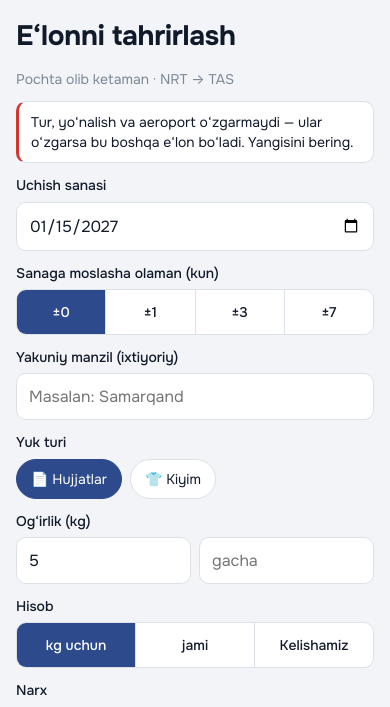
Scenario: EditPostPage › "Kelishamiz" tanlansa narx maydoni yo‘qoladi va summa yuborilmaydi
Click the radio button labelled "Kelishamiz".
click(314, 645)  # box [254,623,373,667]
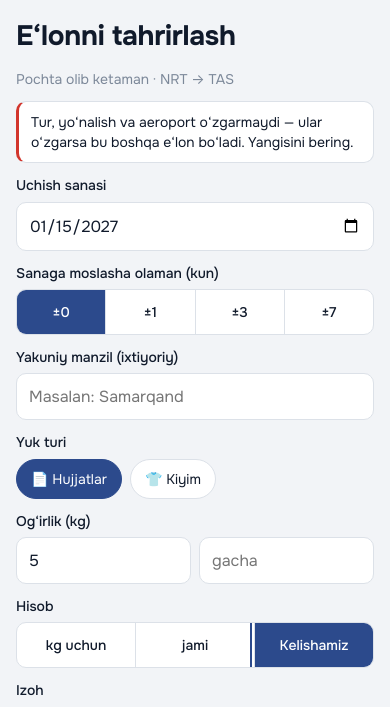
Expected: the text labelled "Narx" is gone
